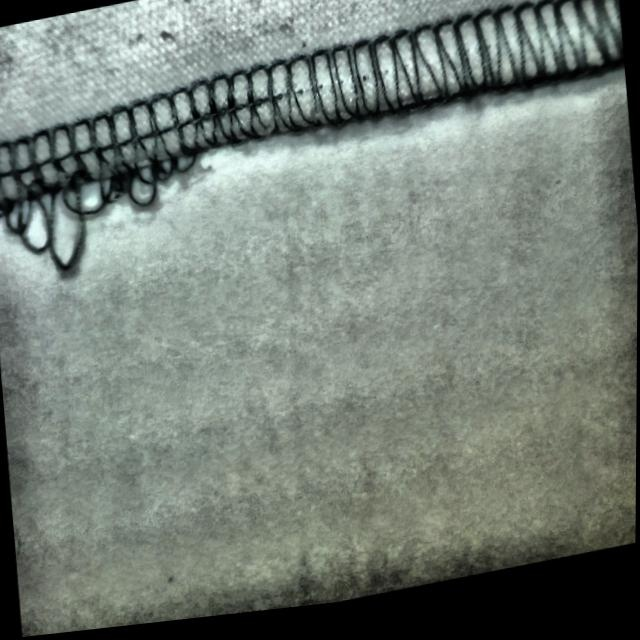Stitch: (1, 83, 217, 294)
